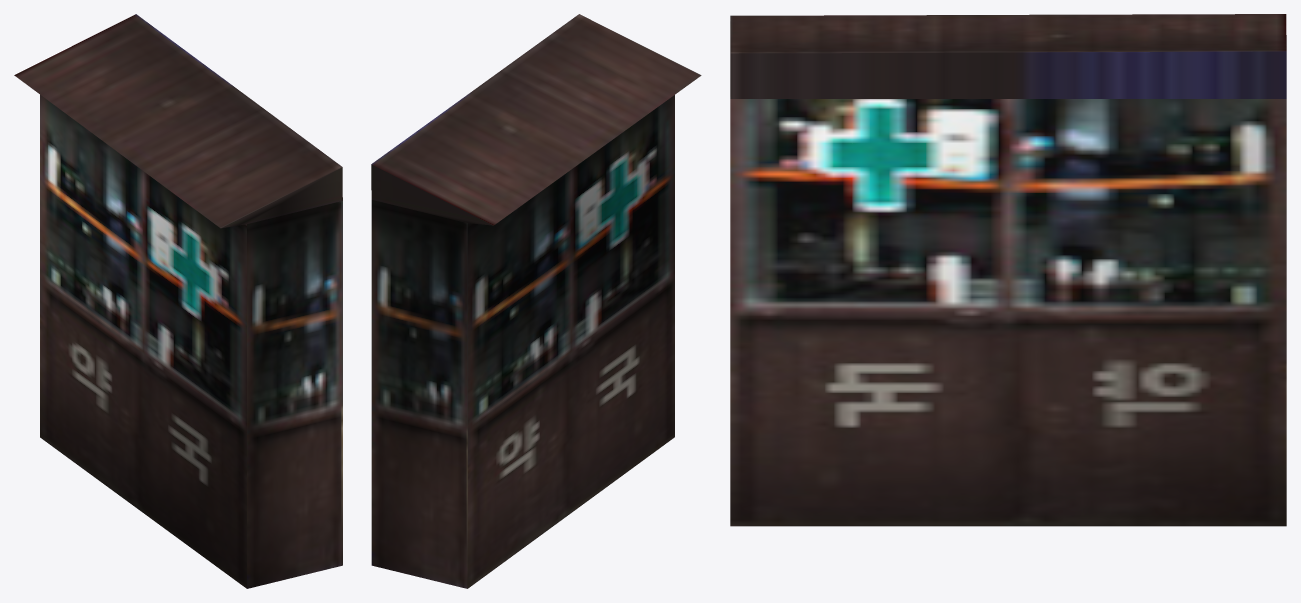
The model's file is yakguk_window.FBX.
The picture shows the model from 3 angles, left to right: view 1: azimuth 30°, elevation 25°; view 2: azimuth 150°, elevation 25°; view 3: azimuth 270°, elevation 25°; orthographic projection. The views are drawn at different scales.
Parts seen in each view (by area): view 1: polySurface27; view 2: polySurface27; view 3: polySurface27.
Part boxes in pixels (<box>): polySurface27: <box>14,14,342,588</box>; polySurface27: <box>371,14,701,588</box>; polySurface27: <box>730,14,1286,526</box>.
Bounding box in the file's own units: 3.94 × 12.3 × 11.53.
1 material, 1 textured.
